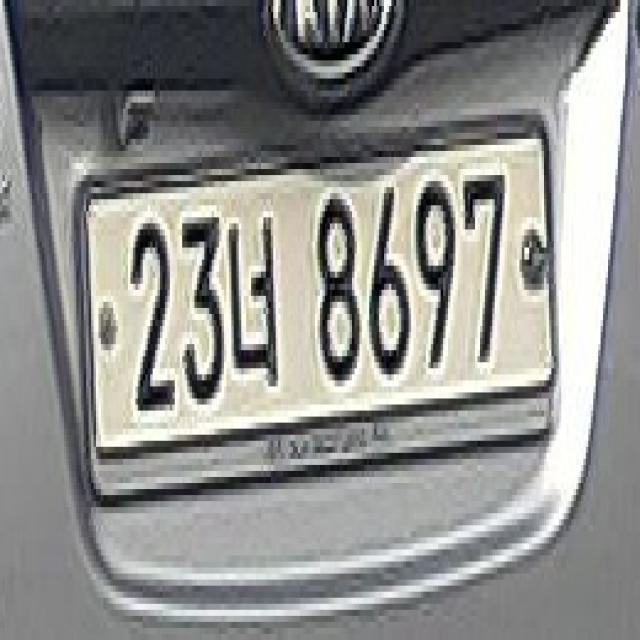2: (125, 212, 180, 420)
3: (179, 198, 230, 423)
6: (362, 174, 419, 390)
7: (461, 154, 522, 370)
8: (309, 184, 367, 400)
9: (413, 166, 469, 389)
license_plate: (89, 129, 553, 448)
neo: (225, 211, 280, 407)
